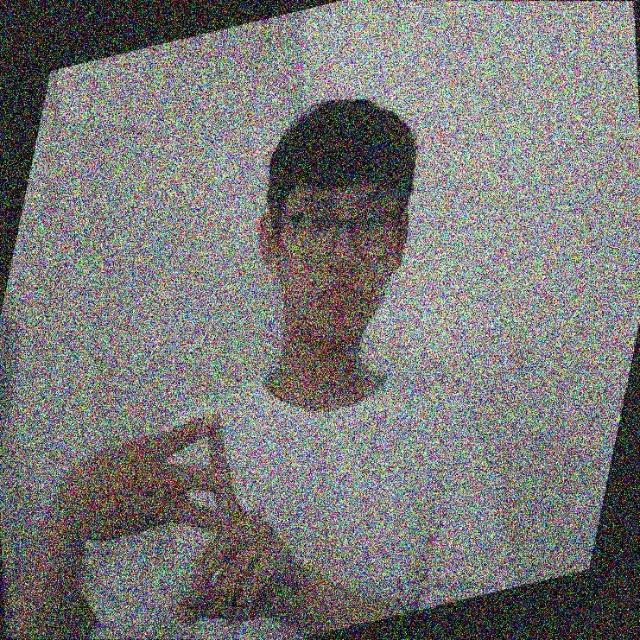B: (126, 399, 281, 626)
